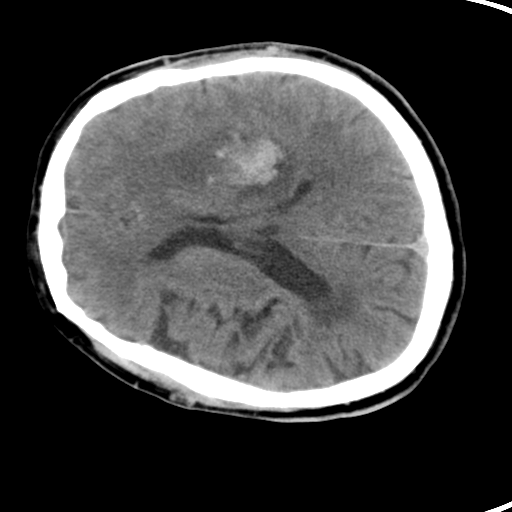a: (165, 118, 303, 211)
